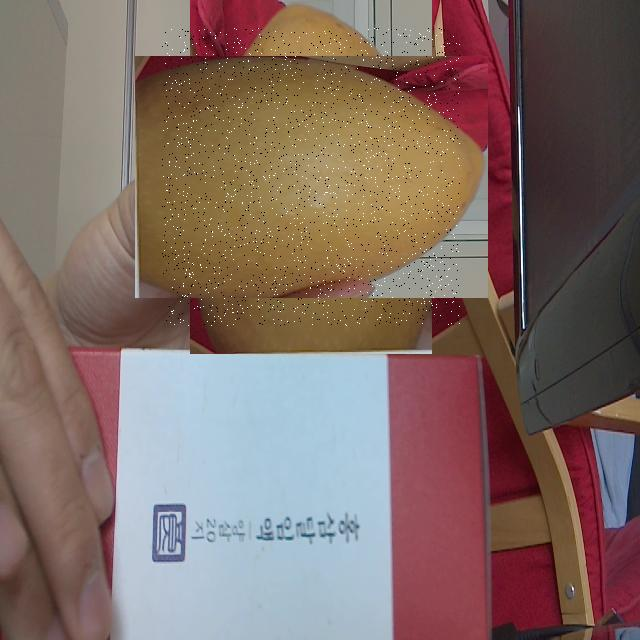pear: (162, 28, 460, 326)
